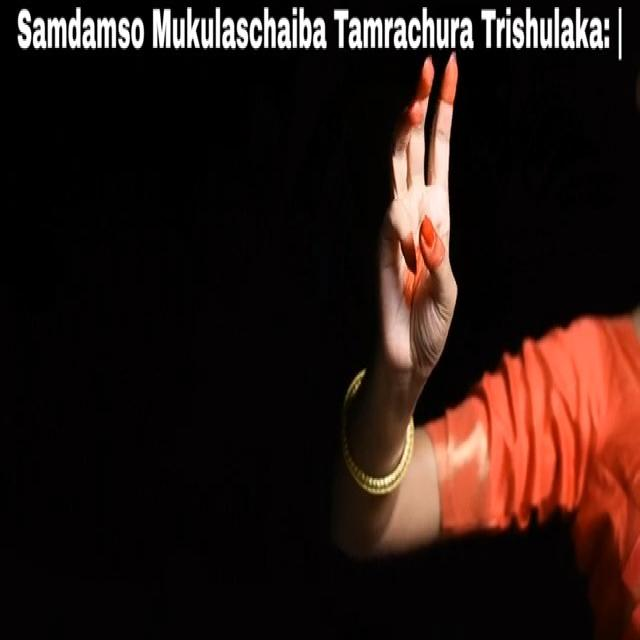Trishula: (362, 47, 479, 380)
bangle: (328, 365, 422, 519)
text: (4, 4, 626, 70)
